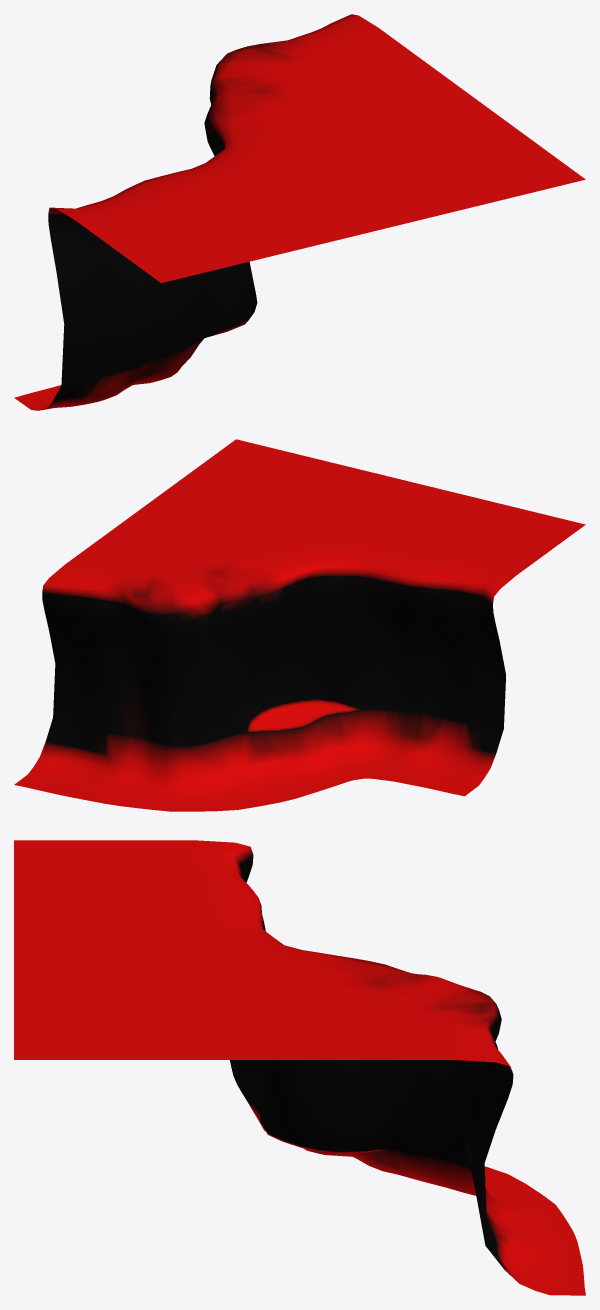
Rendered from GroundCliff05B 1M Foreground.fbx.
3 views of the same model, one above another, from view 1: azimuth 30°, elevation 25°; view 2: azimuth 150°, elevation 25°; view 3: azimuth 270°, elevation 25° (orthographic). The views are drawn at different scales.
Visible parts, largest first — view 1: GroundCliff05B 1M Foreground; view 2: GroundCliff05B 1M Foreground; view 3: GroundCliff05B 1M Foreground.
Part boxes in pixels (bbox=[...]): GroundCliff05B 1M Foreground: bbox=[14, 14, 585, 410]; GroundCliff05B 1M Foreground: bbox=[14, 439, 585, 811]; GroundCliff05B 1M Foreground: bbox=[14, 840, 585, 1295].
Bounding box in the file's own units: 2 × 1 × 2.2.
